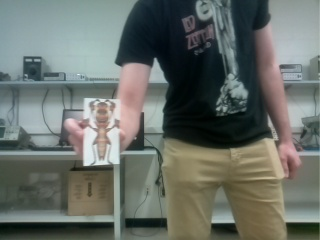Angry: (84, 98, 120, 164)
